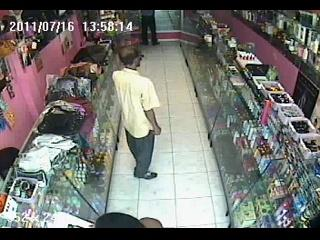Normal: (111, 45, 162, 180), (140, 10, 160, 46)
